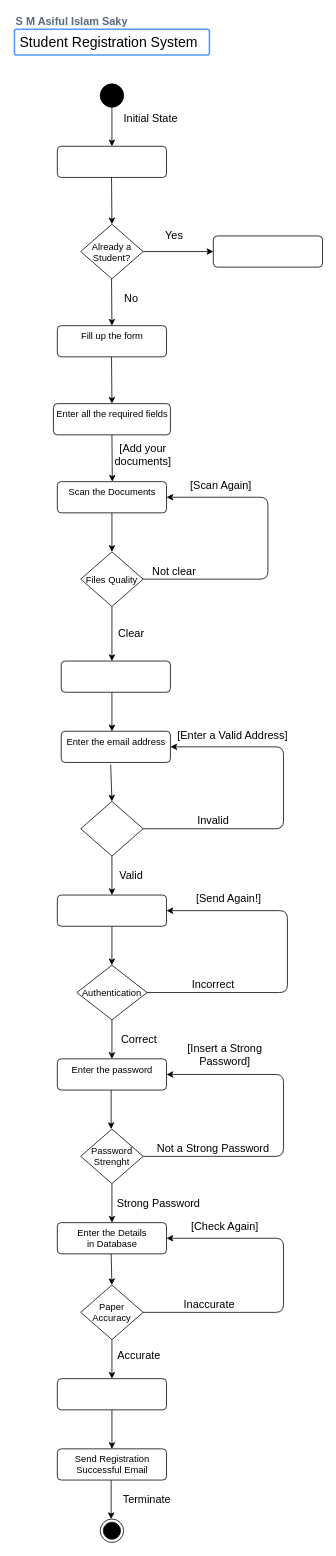
Image size: 336x1556. Some labels were removed from this diagram. The shapes that lost their labels are listed below. From the top down, each one's box as (x1, y1, x2, y2) in pixels, then its label:
(57, 145, 167, 177): Login Portal
(213, 235, 323, 267): Login
(60, 660, 170, 692): Upload the documents
(80, 801, 143, 856): Validaty
(57, 894, 167, 926): Send OTP
(57, 1378, 167, 1410): Register Student
